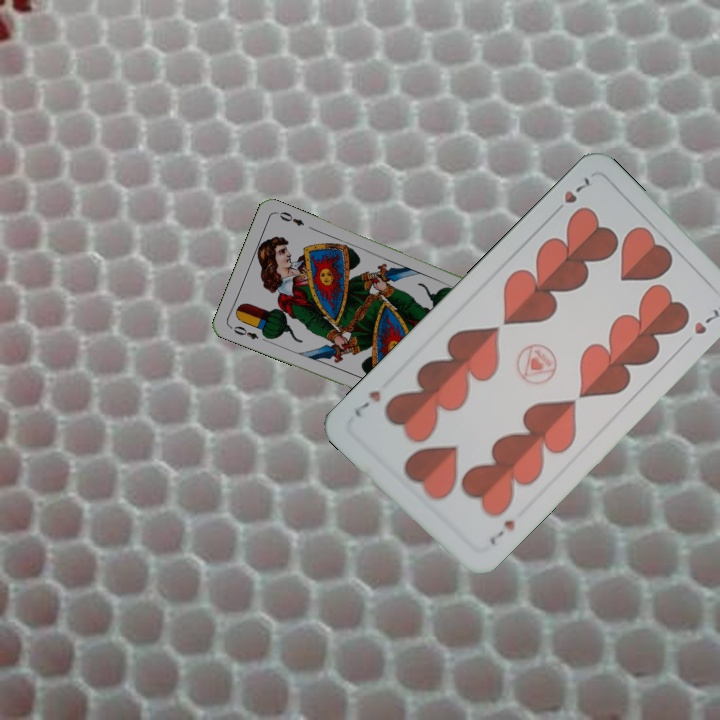EO: (226, 322, 261, 342)
H7: (548, 172, 593, 218), (484, 515, 518, 548)
